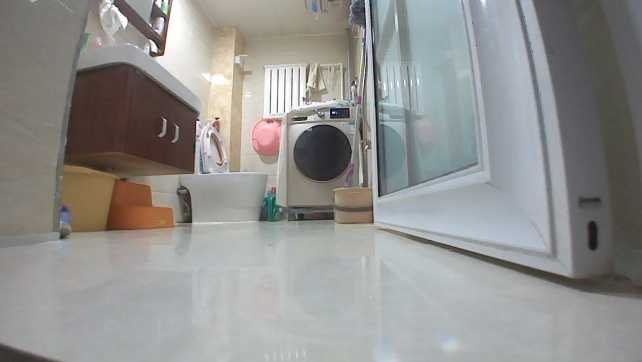door_anno: (360, 0, 619, 284)
toilet: (176, 122, 267, 225)
washing_machine: (273, 102, 359, 220)
washstand: (65, 42, 205, 178)
